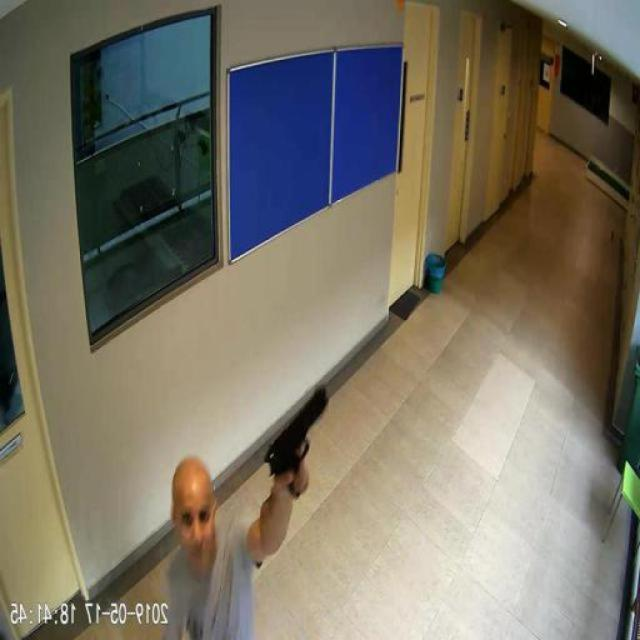pistol: (268, 386, 330, 496)
